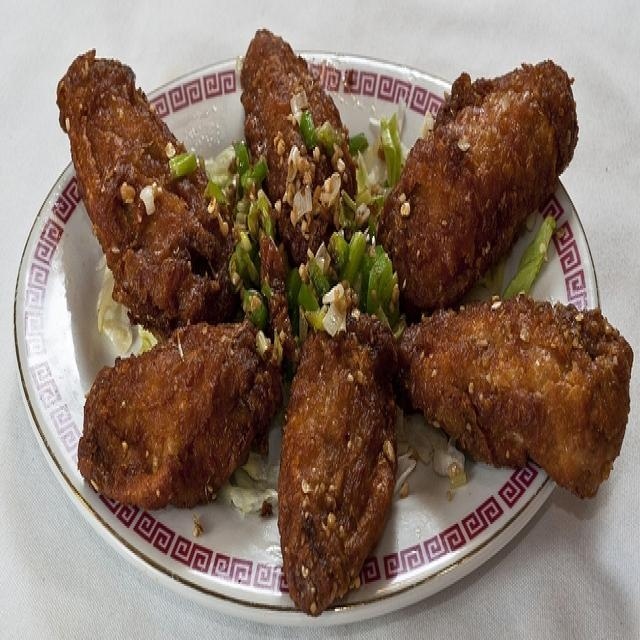Deep fried chicken wing: (57, 29, 627, 578)
